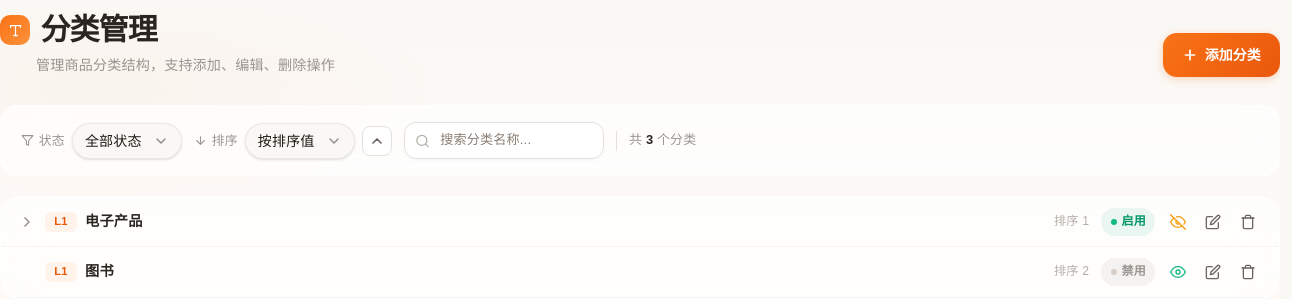
Test: CategoryManagePage › filters by search input
In the field with placeholder "搜索分类名称...": (504, 141) [404,122,604,159], type "电子"
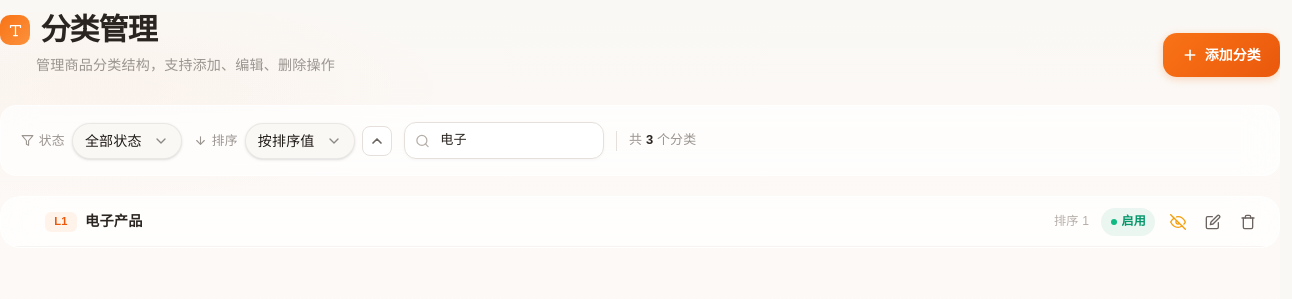
Expected: the text "电子产品" is shown, [85,213,143,229]
Expected: the text "图书" is gone
